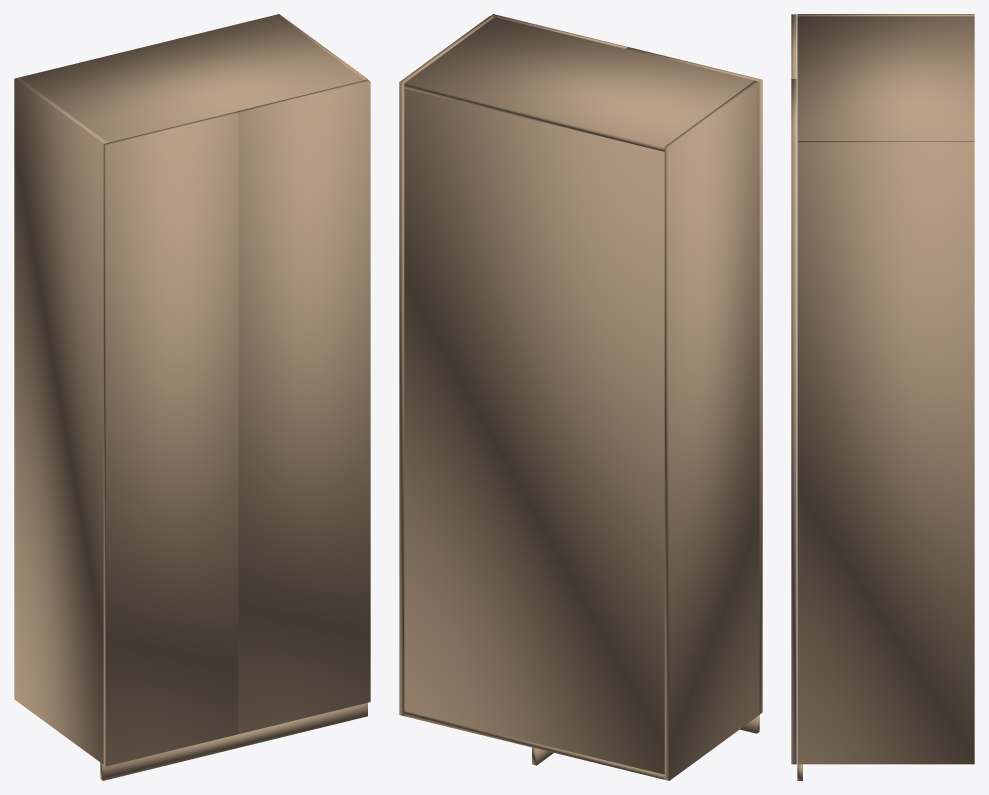
3 renders of one model, left to right at view 1: azimuth 30°, elevation 25°; view 2: azimuth 150°, elevation 25°; view 3: azimuth 270°, elevation 25°, orthographic.
Parts seen in each view (by area): view 1: Geom3D (×5); view 2: Geom3D (×6); view 3: Geom3D (×5).
Boxes of the visible parts, <box> form: Geom3D (×5): <box>14,15,370,780</box>; Geom3D (×6): <box>399,16,762,780</box>; Geom3D (×5): <box>791,14,974,764</box>.
Size of the model in its own units: 1 by 2.3 by 0.6.
